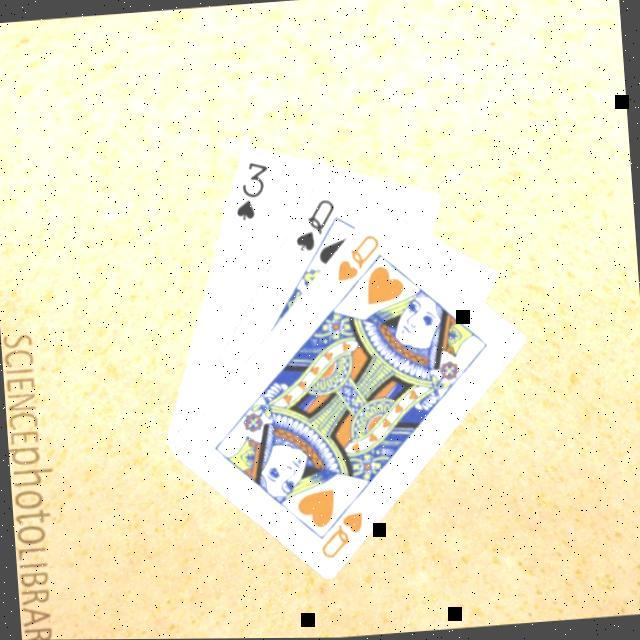3S: (230, 154, 274, 221)
QH: (314, 491, 370, 560), (331, 227, 387, 283)
QS: (291, 192, 342, 253)
